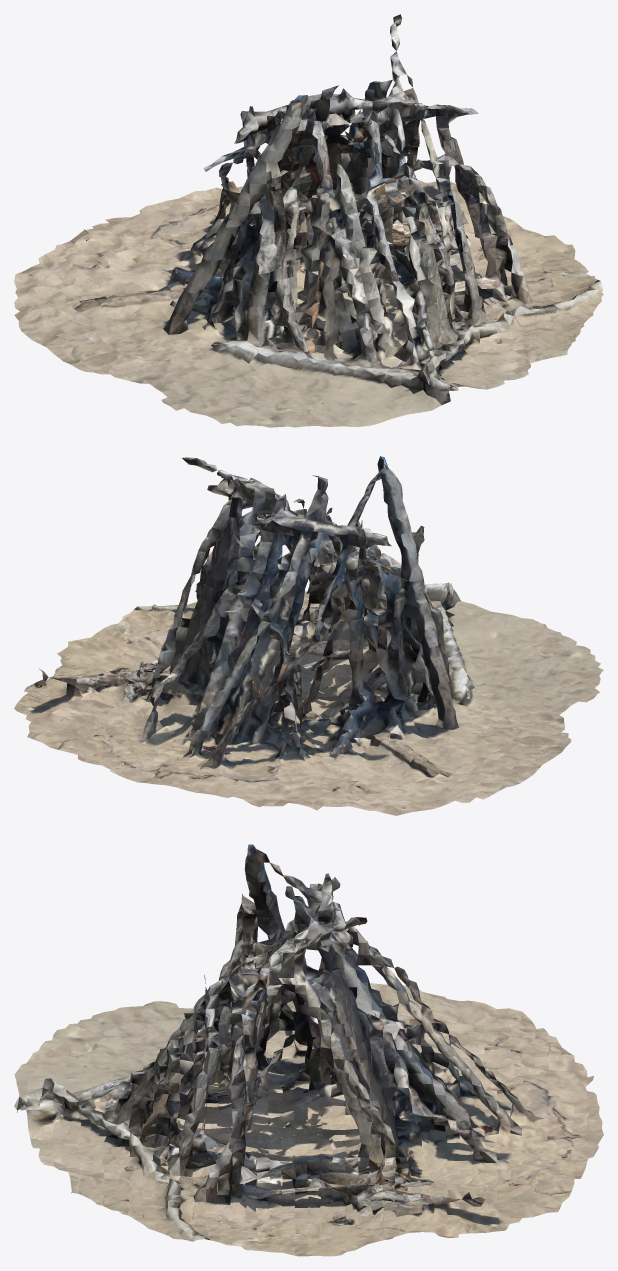
Rendered from beach_hut.glb.
3 renders of one model, top to bottom at view 1: azimuth 30°, elevation 25°; view 2: azimuth 150°, elevation 25°; view 3: azimuth 270°, elevation 25°, orthographic. The views are drawn at different scales.
Visible parts, largest first — view 1: BeachHut; view 2: BeachHut; view 3: BeachHut.
Part boxes in pixels (x1,y1,x2,y2): BeachHut: (14, 14, 603, 427); BeachHut: (14, 456, 603, 815); BeachHut: (14, 844, 603, 1256).
Bounding box in the file's own units: 4.4 × 2.08 × 4.15.
Materials: 1 (1 with a texture image).
